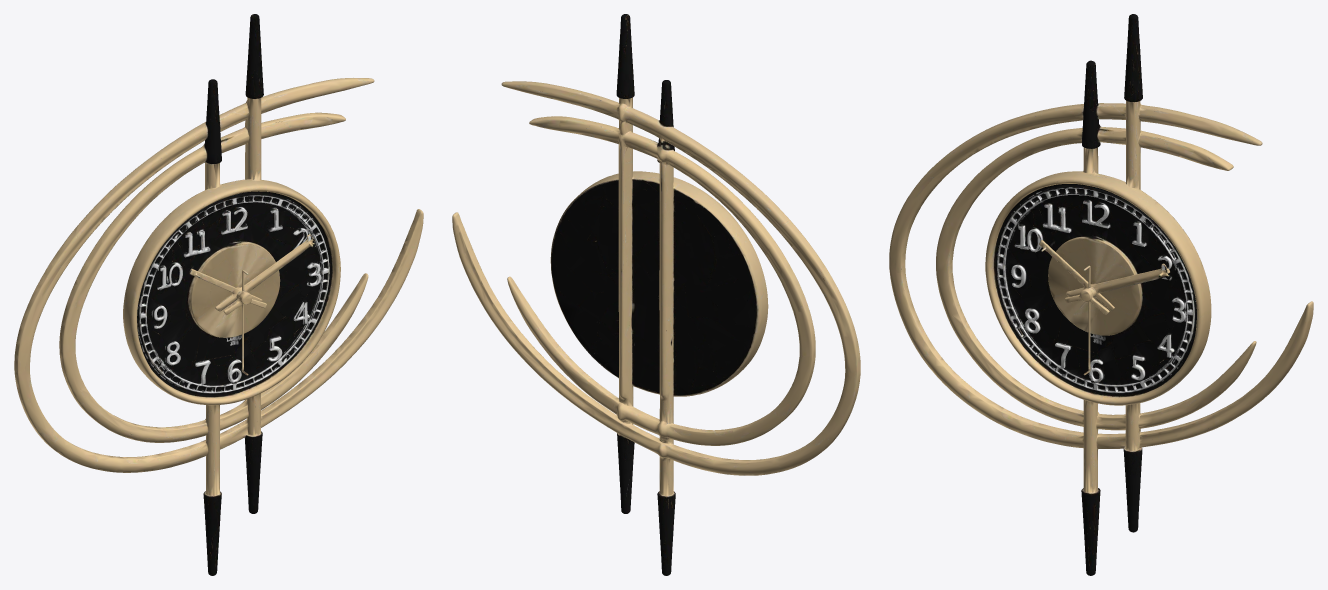
The model's file is wanduhr-01.glb.
3 views of the same model, side by side, from view 1: azimuth 30°, elevation 25°; view 2: azimuth 150°, elevation 25°; view 3: azimuth 330°, elevation 25° (orthographic). The views are drawn at different scales.
Size of the model in its own units: 1.47 by 1.9 by 0.1762.
Materials: 1 (1 with a texture image).
